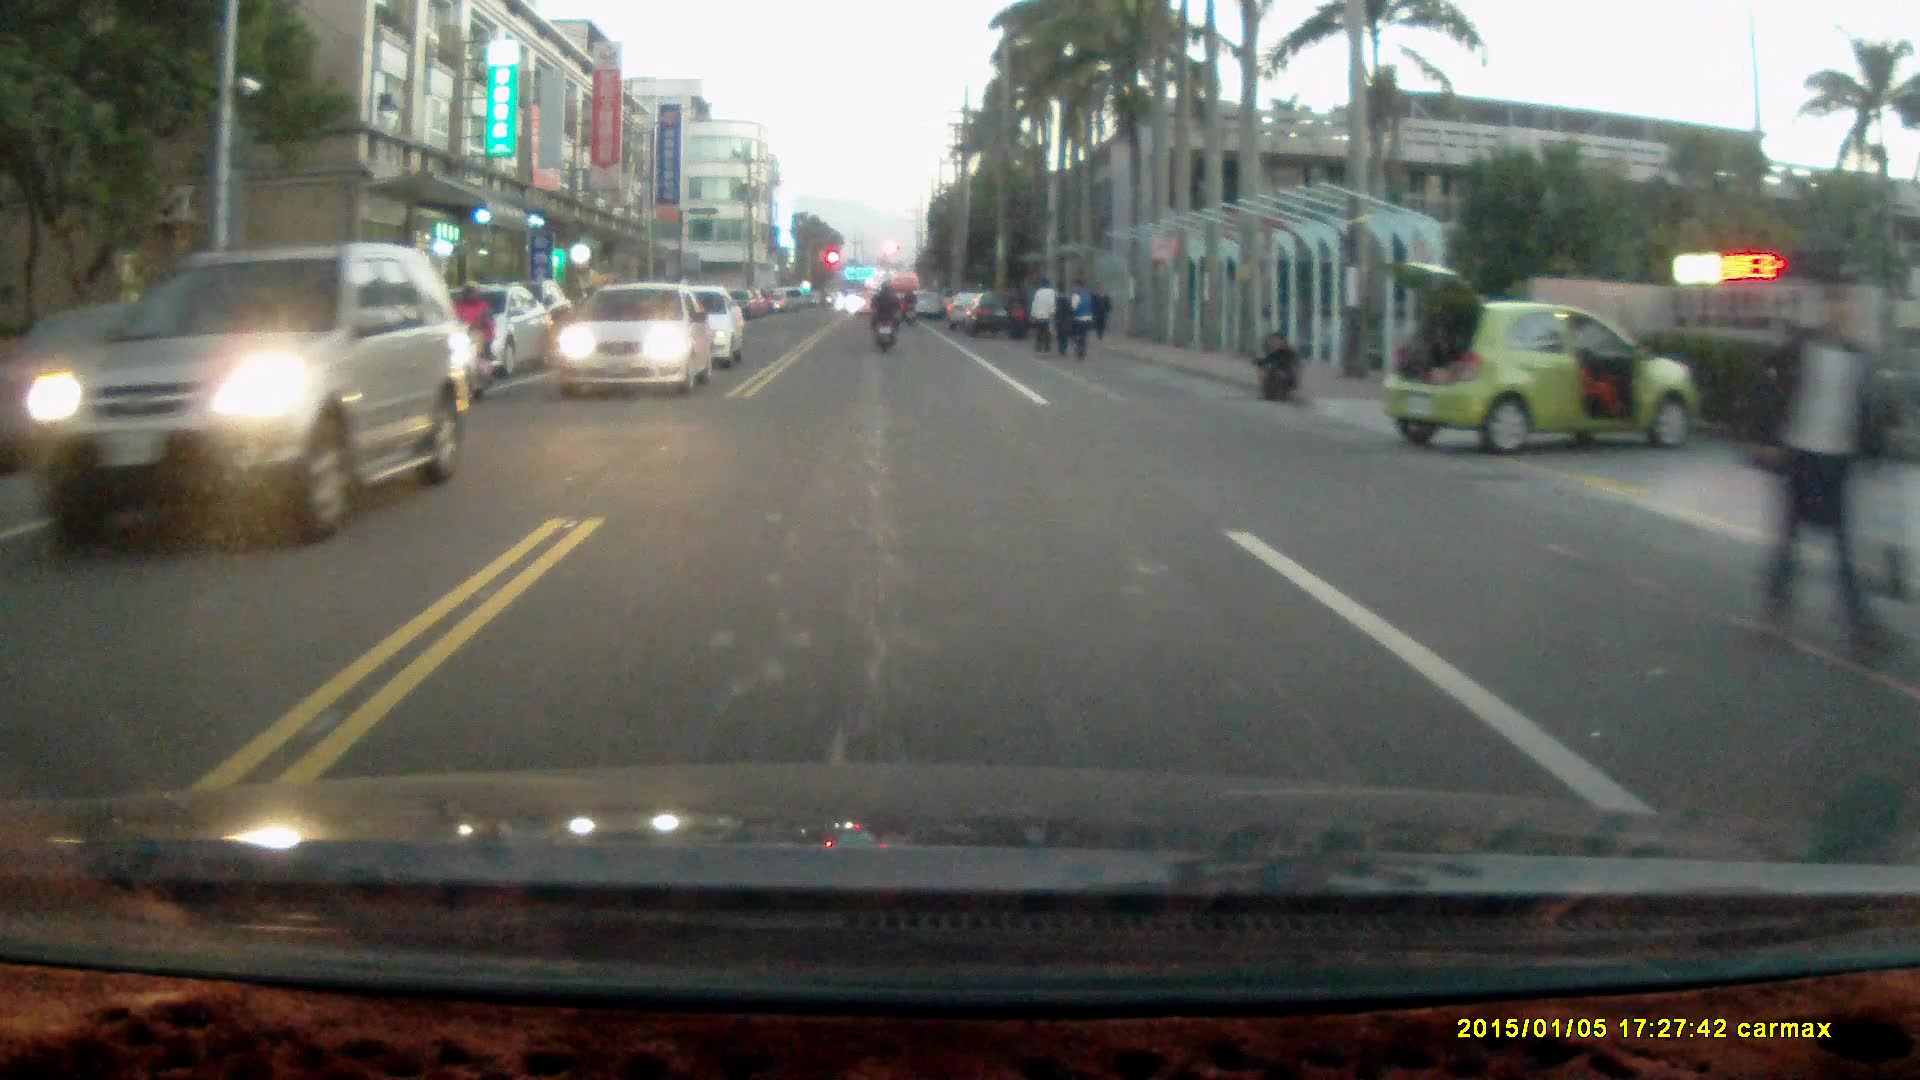pedestrian: (1742, 272, 1892, 661), (1251, 328, 1301, 405), (1060, 274, 1095, 358), (1047, 281, 1075, 361), (1028, 275, 1055, 360)
rider: (445, 278, 497, 405), (866, 279, 901, 357)
vehicle: (37, 240, 453, 550), (1379, 261, 1701, 455), (552, 281, 711, 407), (454, 286, 551, 393), (644, 284, 748, 371), (962, 291, 1031, 340)
